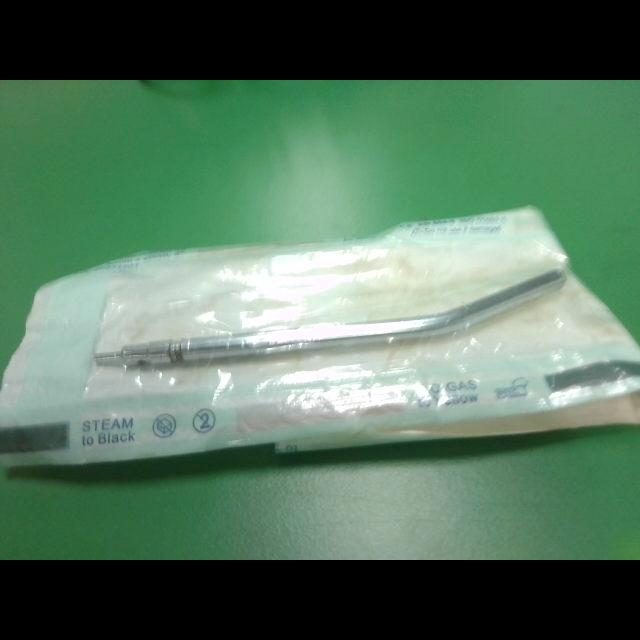triple_syringe: (94, 268, 568, 368)
